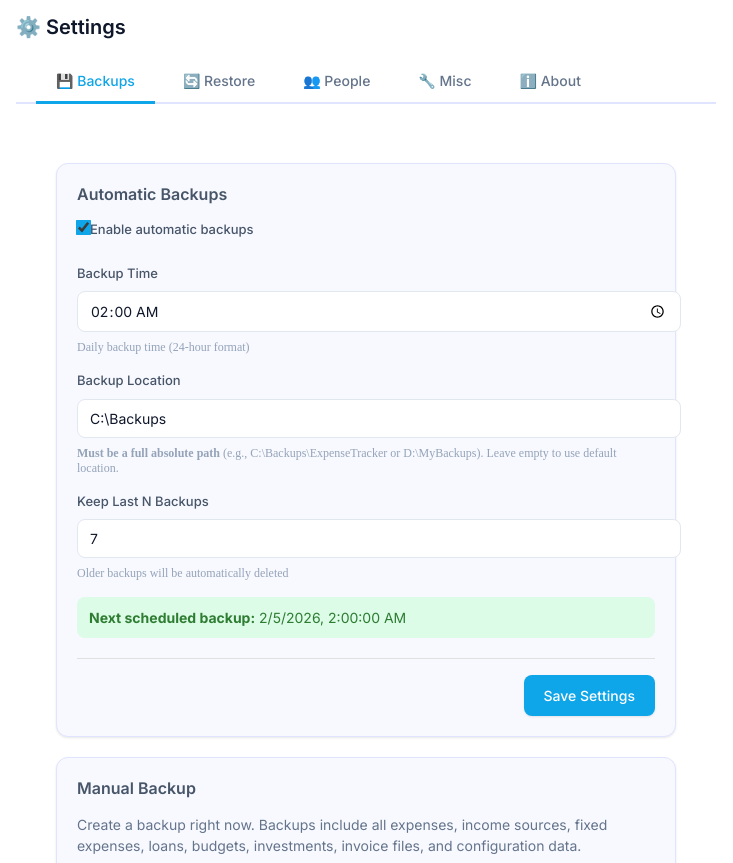
Test case: BackupSettings - Retention Settings UI › Retention settings form rendering › should render retention settings form with current values
// Switch to Misc tab
Click the button "🔧 Misc" at point(445, 82), box [398,60,492,104]
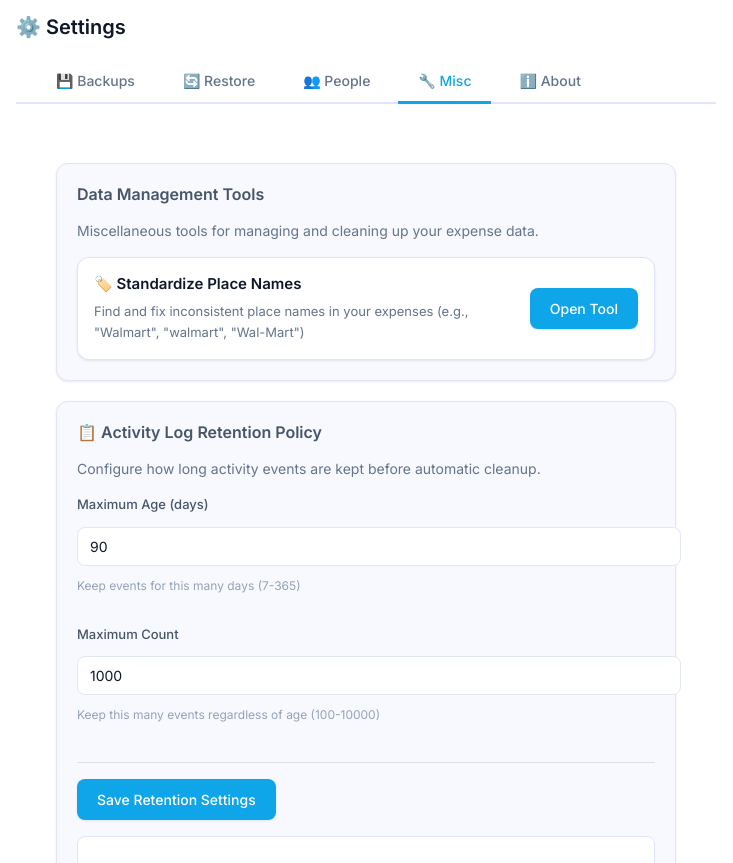
Expected: the heading "📋 Activity Log Retention Policy" is shown, [77,422,322,442]
Expected: the number field labelled "Maximum Age (days)" holds "90", [77,527,681,566]
Expected: the number field labelled "Maximum Count" holds "1000", [77,656,681,695]
